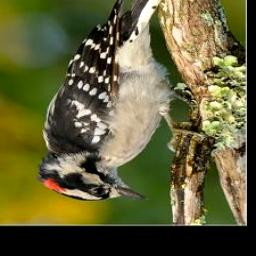Woodpecker: (33, 0, 200, 201)
